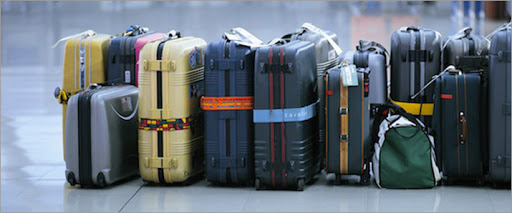bag: (372, 110, 443, 192)
luggage: (135, 34, 207, 186), (252, 38, 323, 192), (63, 82, 141, 189), (203, 36, 257, 188), (432, 67, 491, 187), (322, 58, 373, 183), (388, 24, 442, 102), (60, 29, 108, 85), (107, 32, 142, 88)
